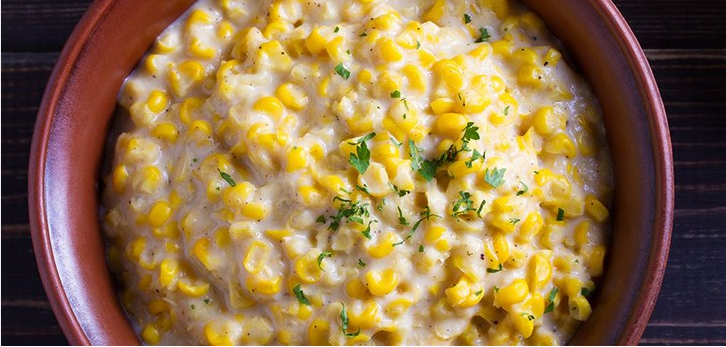feuilles vetes: (408, 150, 452, 177)
lait: (241, 74, 276, 96)
mais: (430, 61, 473, 120)
